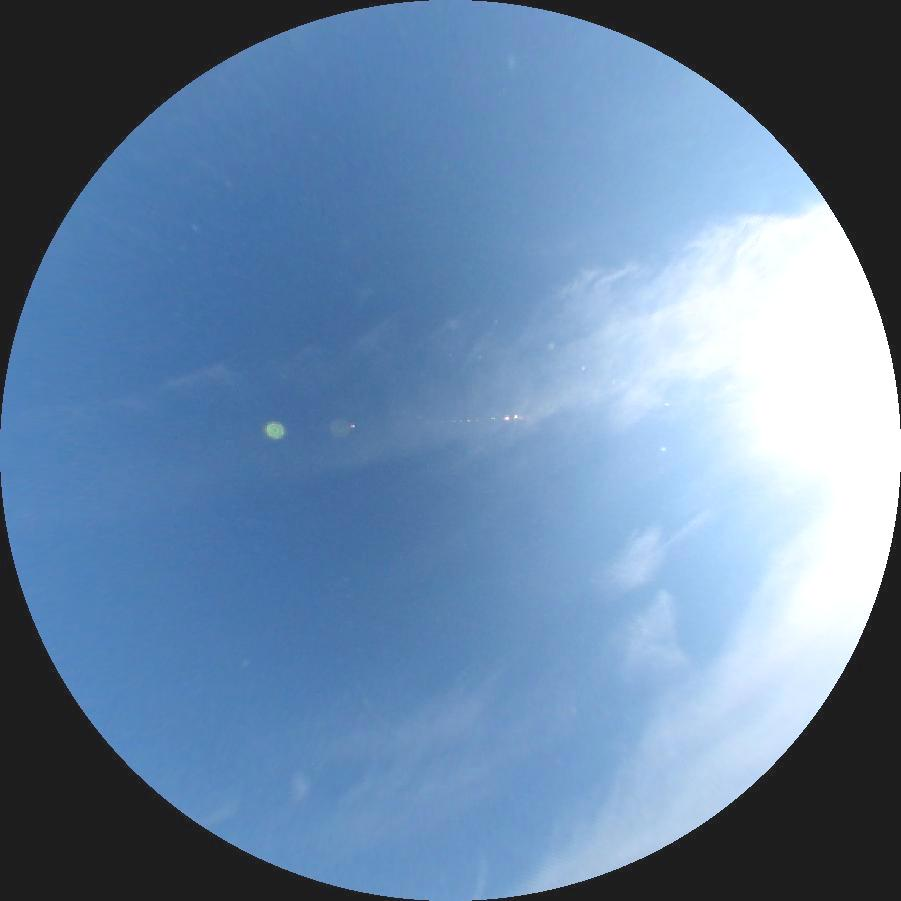contrail veryold: (149, 174, 875, 598), (598, 529, 701, 694)
unknow: (660, 505, 710, 552)
